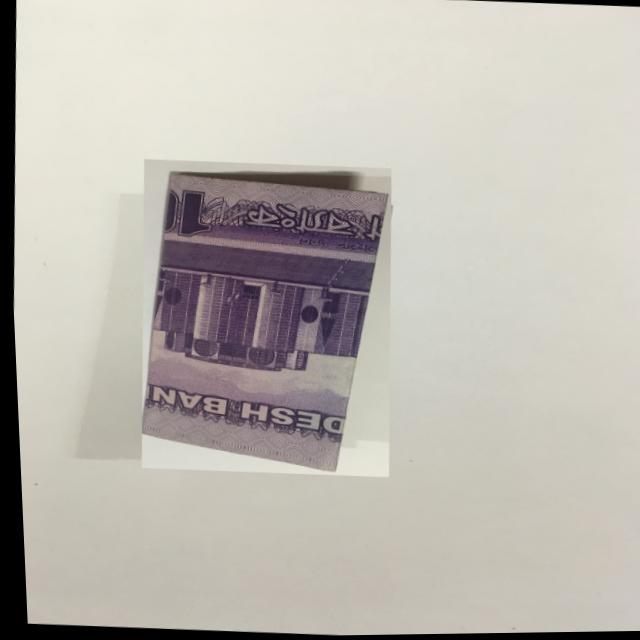Taka: (127, 157, 401, 482)
